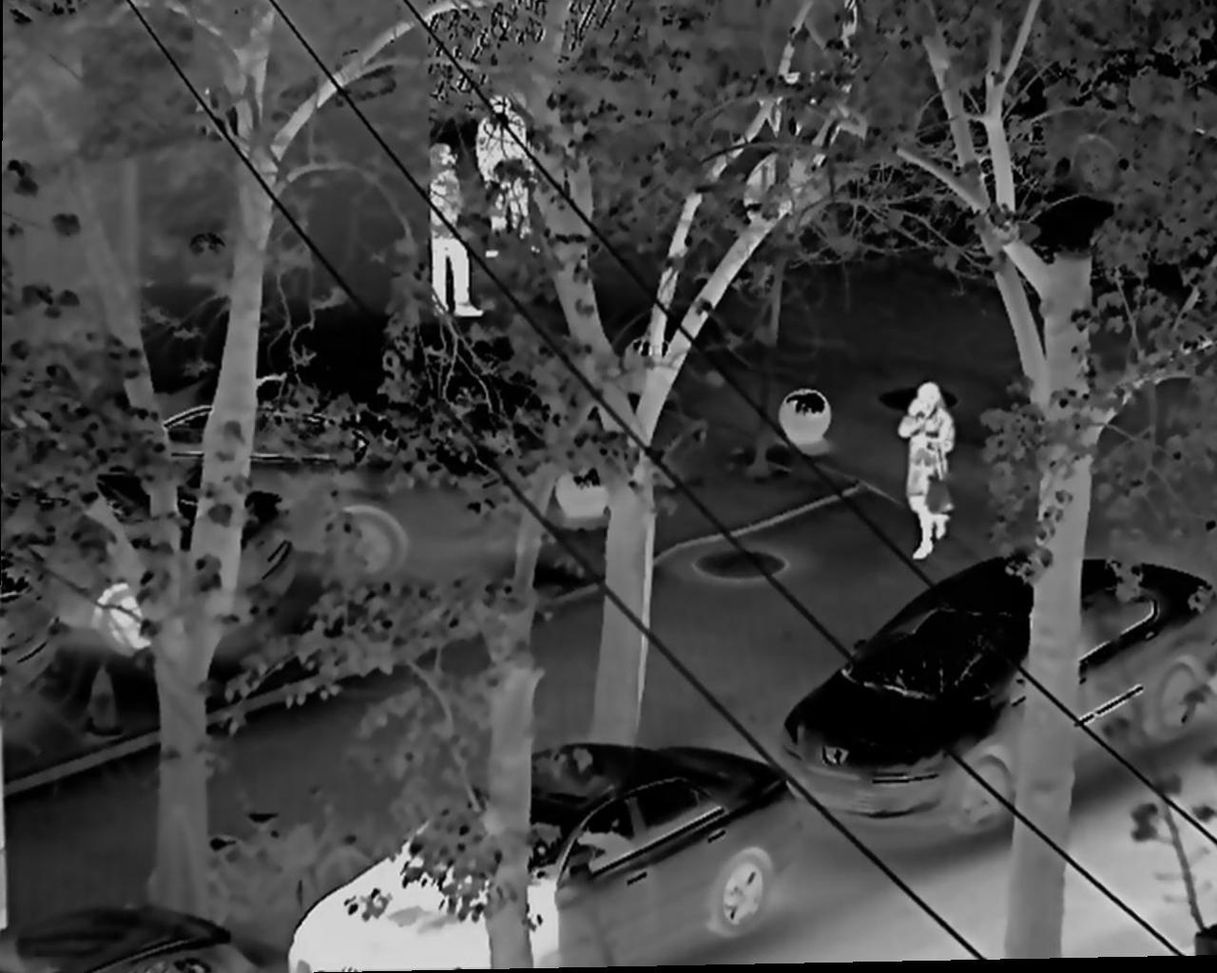person: (430, 144, 489, 318), (896, 382, 952, 560), (477, 99, 532, 258)
